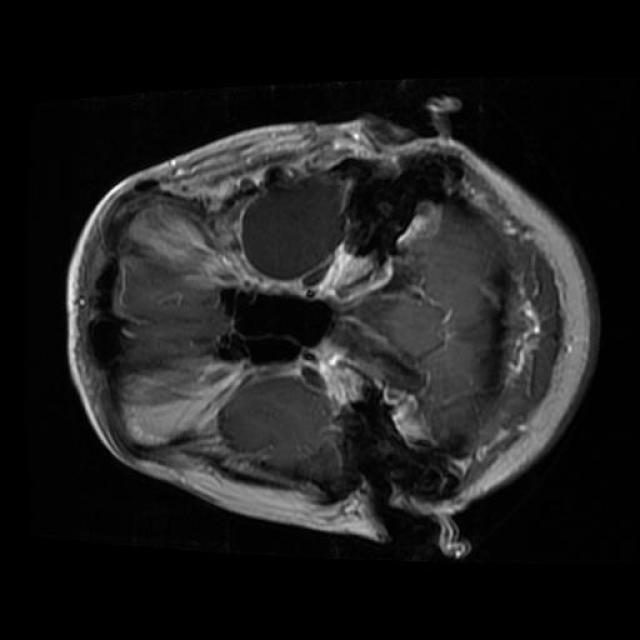Glioma: (242, 176, 343, 278)
